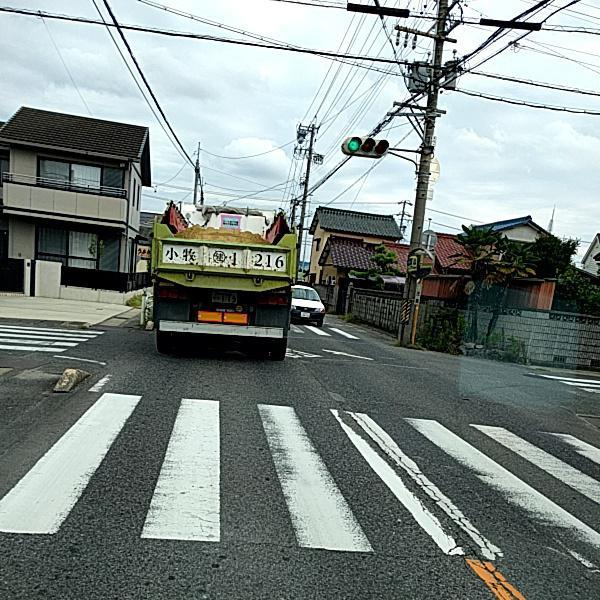D43: (9, 376, 599, 568)
